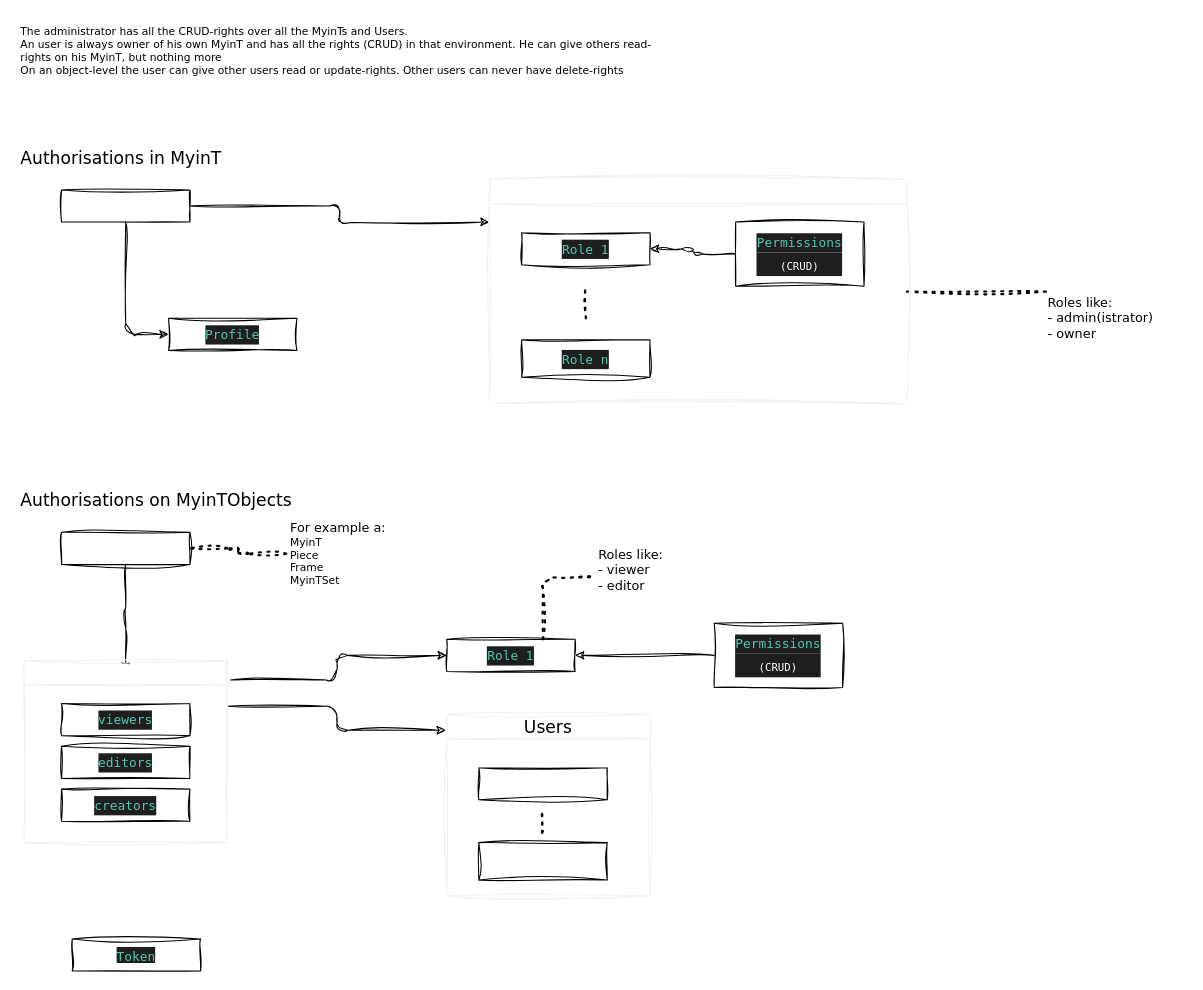
Some shapes in this 1203 by 990 pixel diagram are drawn without their labels. The box of each missing label's shape, as (x1, y1, x2, y2) in pixels:
Object: (60, 531, 190, 564)
Roles: (488, 178, 907, 404)
User: (60, 189, 190, 222)
User 1: (478, 767, 607, 800)
User n: (478, 842, 607, 880)
UserGroups: (23, 660, 227, 843)
